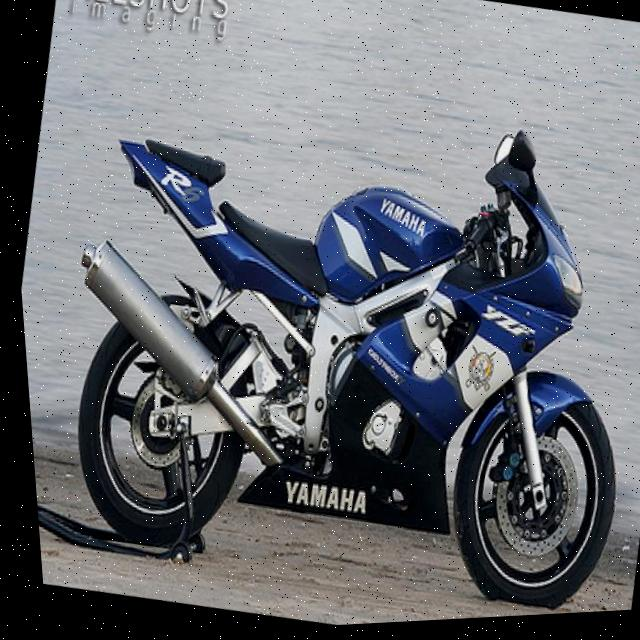motorcycle: (14, 33, 640, 640)
